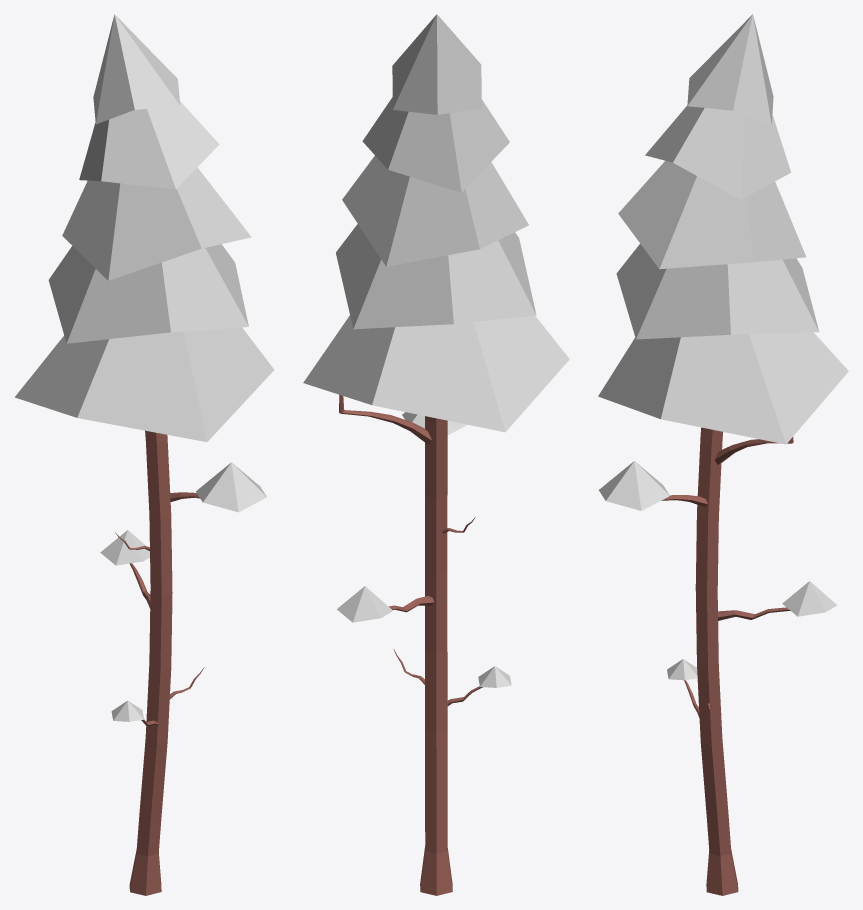
The model's file is PineTree.fbx.
3 views of the same model, side by side, from view 1: azimuth 30°, elevation 25°; view 2: azimuth 150°, elevation 25°; view 3: azimuth 270°, elevation 25° (orthographic). The views are drawn at different scales.
Parts seen in each view (by area): view 1: Tree; view 2: Tree; view 3: Tree.
Part boxes in pixels (x1=…): Tree: x1=14, y1=14, x2=274, y2=895; Tree: x1=303, y1=14, x2=569, y2=895; Tree: x1=598, y1=14, x2=848, y2=895.
Bounding box in the file's own units: 116 × 488 × 128.
